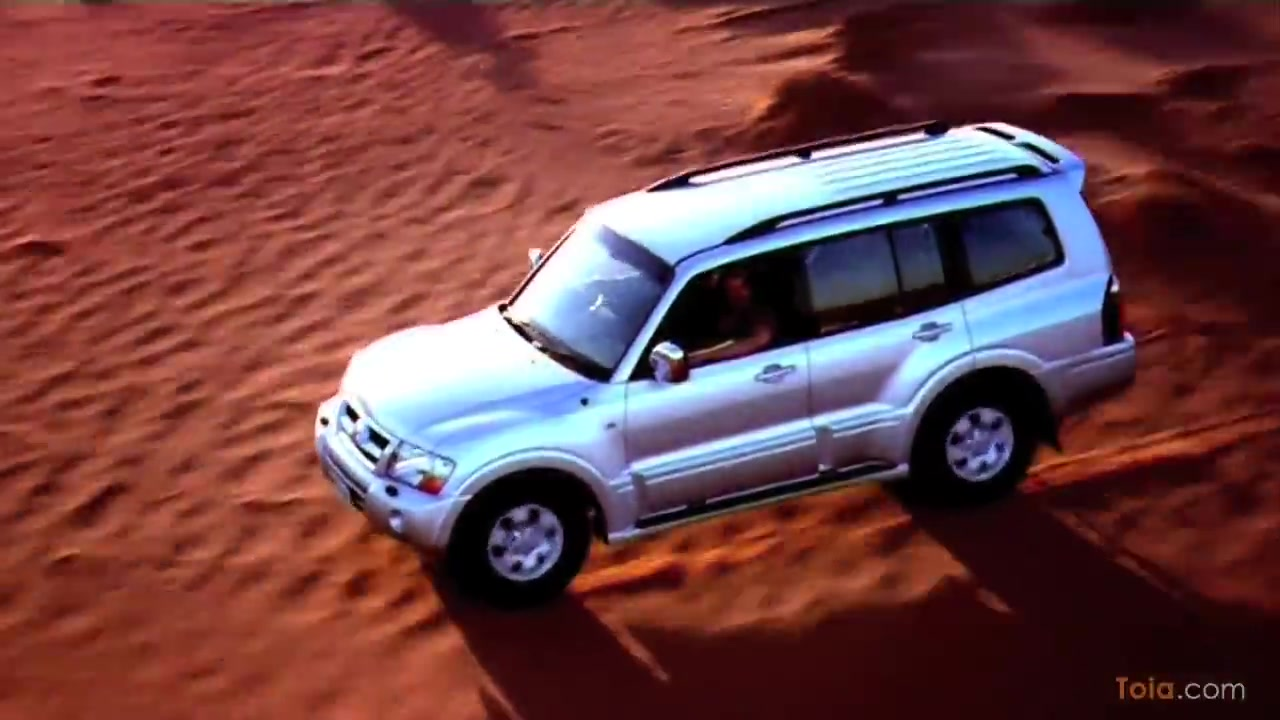car: (311, 116, 1146, 606)
